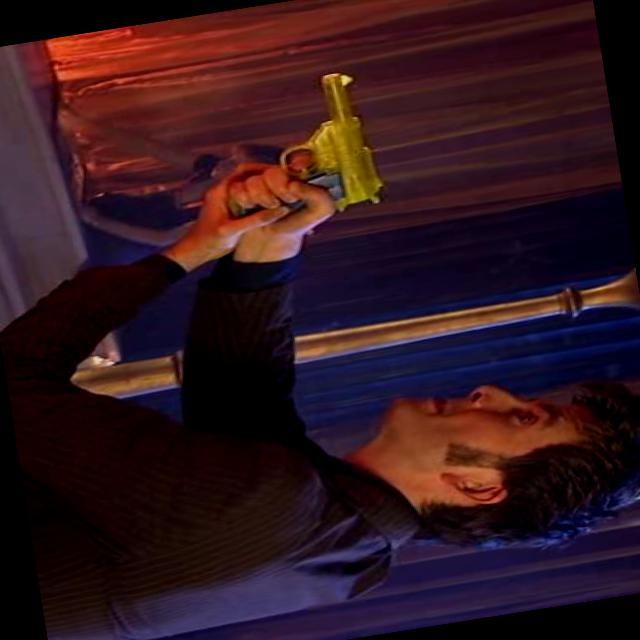handgun: (208, 64, 390, 228)
